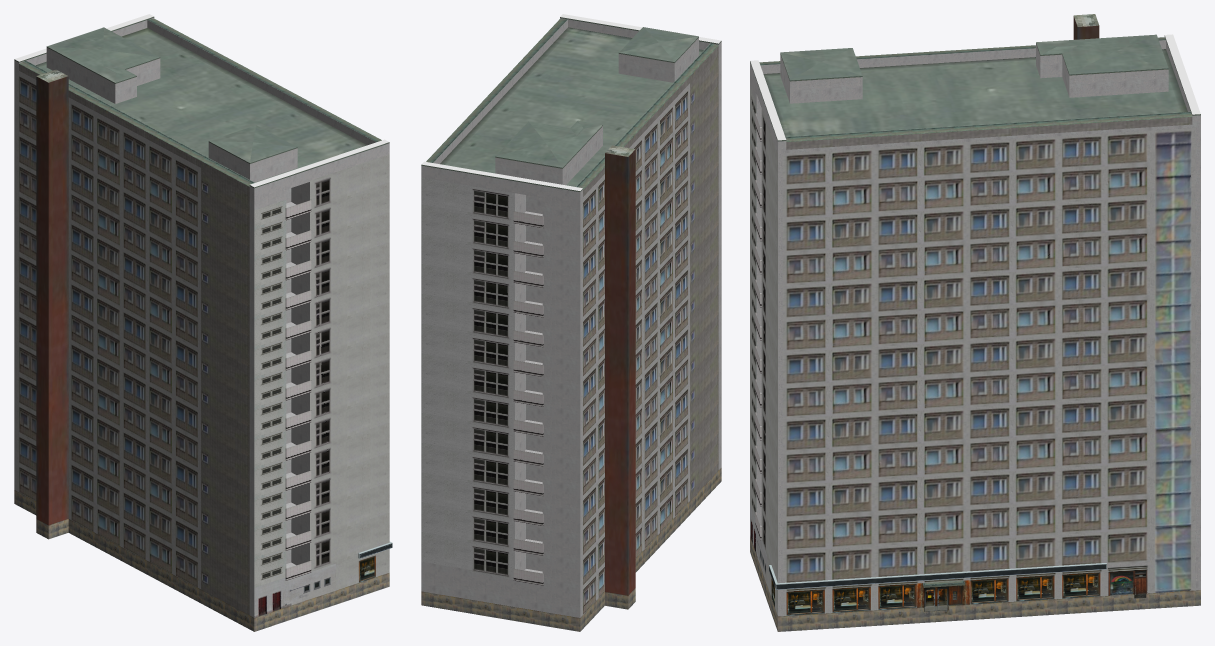
File: Impilinna.fbx
3 views of the same model, side by side, from view 1: azimuth 30°, elevation 25°; view 2: azimuth 150°, elevation 25°; view 3: azimuth 270°, elevation 25° (orthographic). The views are drawn at different scales.
Parts seen in each view (by area): view 1: Model, Group_1_3, Group_1_10, Group_1_1, Group_1_2, Group_1_13, Group_1_4, Group_1_5, Group_1_6, Group_1_7, Group_1_8, Group_1_9 (+2 smaller); view 2: Model, Group_1_16, Group_1_18, Group_1_24, Group_1_17, Group_1_20, Group_1_23, Group_1_15, Group_1_21, Group_1_25, Group_1_26, Group_1_14 (+2 smaller); view 3: Model.
Boxes of the visible parts, x1,y1,x2,y2 form: Model: [14, 14, 392, 631]; Group_1_3: [285, 182, 311, 220]; Group_1_10: [285, 362, 311, 400]; Group_1_1: [285, 543, 311, 580]; Group_1_2: [285, 513, 311, 550]; Group_1_13: [285, 453, 311, 490]; Group_1_4: [285, 483, 311, 520]; Group_1_5: [285, 272, 311, 310]; Group_1_6: [285, 242, 311, 280]; Group_1_7: [285, 212, 311, 250]; Group_1_8: [285, 302, 311, 340]; Group_1_9: [285, 332, 311, 370]; Model: [421, 14, 721, 631]; Group_1_16: [513, 193, 543, 227]; Group_1_18: [513, 283, 543, 317]; Group_1_24: [513, 402, 543, 436]; Group_1_17: [513, 491, 543, 525]; Group_1_20: [513, 223, 543, 257]; Group_1_23: [513, 372, 543, 406]; Group_1_15: [513, 521, 543, 555]; Group_1_21: [513, 313, 543, 347]; Group_1_25: [513, 432, 543, 466]; Group_1_26: [513, 461, 543, 495]; Group_1_14: [513, 551, 543, 585]; Model: [750, 14, 1200, 631].
Size of the model in its own units: 22.14 by 45.8 by 36.9.
